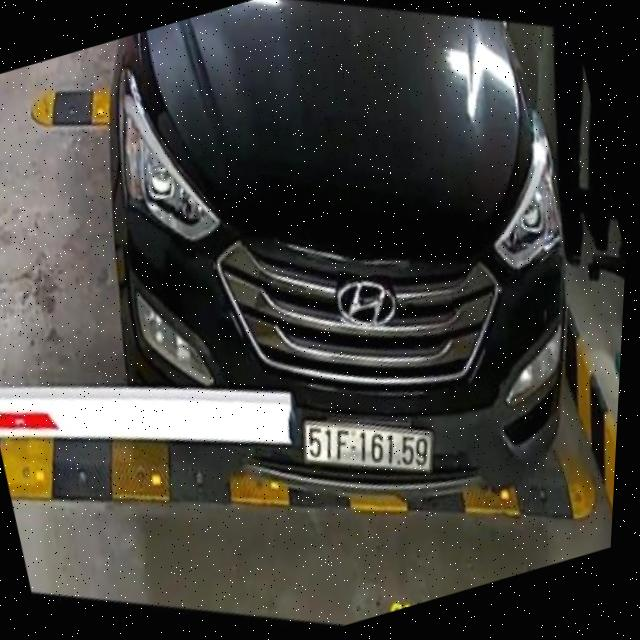car: (17, 0, 640, 594)
plate: (287, 382, 447, 511)
